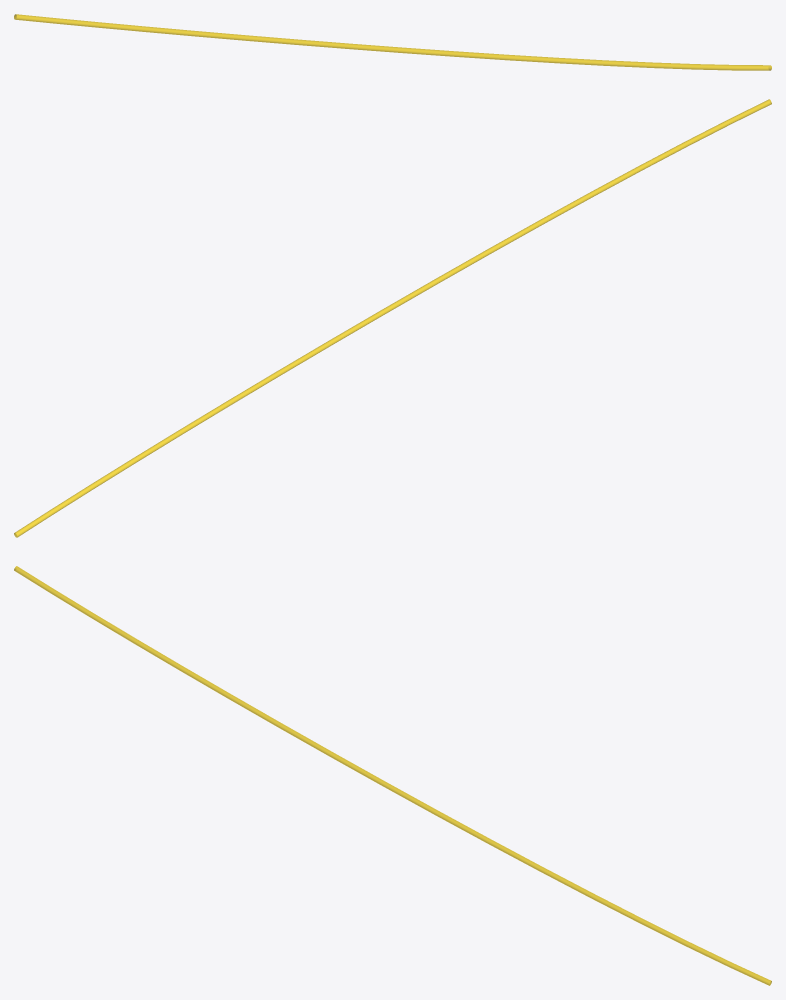
File: Event_15818458_track_42.fbx
3 renders of one model, top to bottom at view 1: azimuth 30°, elevation 25°; view 2: azimuth 210°, elevation 25°; view 3: azimuth 330°, elevation 25°, orthographic.
Visible parts, largest first — view 1: Model; view 2: Model; view 3: Model.
Part boxes in pixels (x1,y1,x2,y2): Model: (14,14,771,70); Model: (14,99,771,537); Model: (14,566,771,985).
Bounding box in the file's own units: 6.28 × 1.94 × 0.2369.
